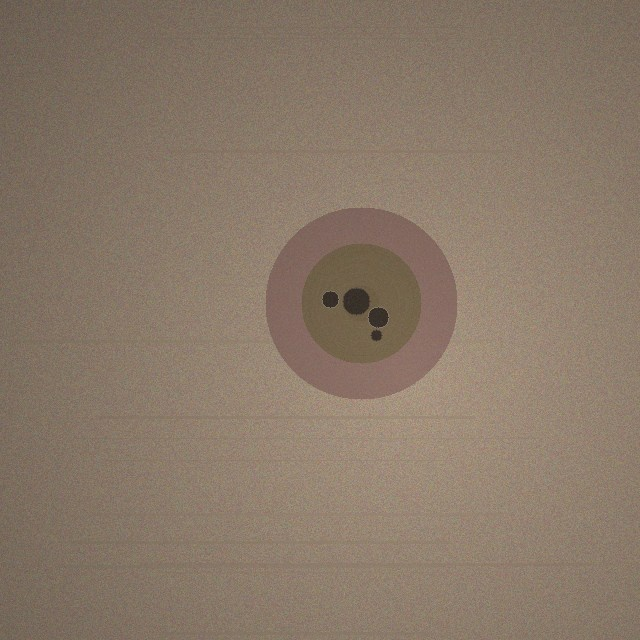shrinkage: (265, 207, 457, 399)
